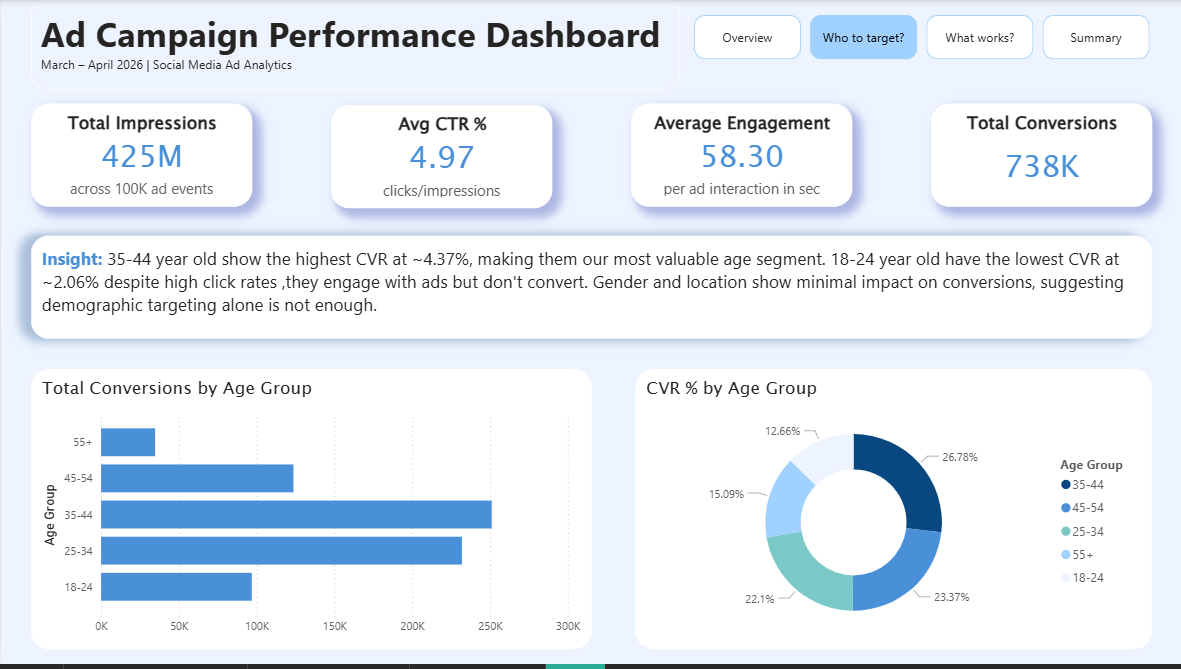

The dashboard page shown, as its layout file describes it:
{"tool":"powerbi","page":{"name":"Who to target?","canvas":[1280,720],"ordinal":1},"visuals":[{"type":"textbox","box":[32,0,704,96],"z":0},{"type":"card","title":"Total Impressions","fields":{"Values":["Sum(vw_audience_segment1.total_impressions)"]},"box":[32,112,240,112],"z":1000},{"type":"pageNavigator","box":[752,16,496,48],"z":2000},{"type":"card","title":"Avg CTR %","fields":{"Values":["Avg(vw_audience_segment1.ctr_pct)"]},"box":[357.3,113.6,240,112],"z":3000},{"type":"card","title":"Average Engagement","fields":{"Values":["Avg(vw_audience_segment1.avg_engagement_sec)"]},"box":[682.7,112,240,112],"z":4000},{"type":"textbox","box":[32,256,1216,112],"z":5000},{"type":"card","title":"Total Conversions","fields":{"Values":["Sum(vw_audience_segment1.total_conversions)"]},"box":[1008,112,240,112],"z":6000},{"type":"clusteredBarChart","fields":{"Category":["vw_audience_segment1.age_group"],"Y":["Sum(vw_audience_segment1.total_conversions)"]},"box":[32,400,608,304],"z":7000},{"type":"donutChart","fields":{"Category":["vw_audience_segment1.age_group"],"Y":["Sum(vw_audience_segment1.cvr_pct)"]},"box":[688,400,560,304],"z":8000}]}

Visuals, with their boxes in screenshot pixels (x1, y1, x2, y2), scaled from the page's 1280x720 canvas onto the 1181x669 screenshot:
textbox: (30,0,679,89)
"Total Impressions" card: (30,104,251,208)
pageNavigator: (694,15,1151,59)
"Avg CTR %" card: (330,106,551,210)
"Average Engagement" card: (630,104,851,208)
textbox: (30,238,1151,342)
"Total Conversions" card: (930,104,1151,208)
clusteredBarChart - vw_audience_segment1.age_group x Sum(vw_audience_segment1.total_conversions): (30,372,590,654)
donutChart - vw_audience_segment1.age_group x Sum(vw_audience_segment1.cvr_pct): (635,372,1151,654)
